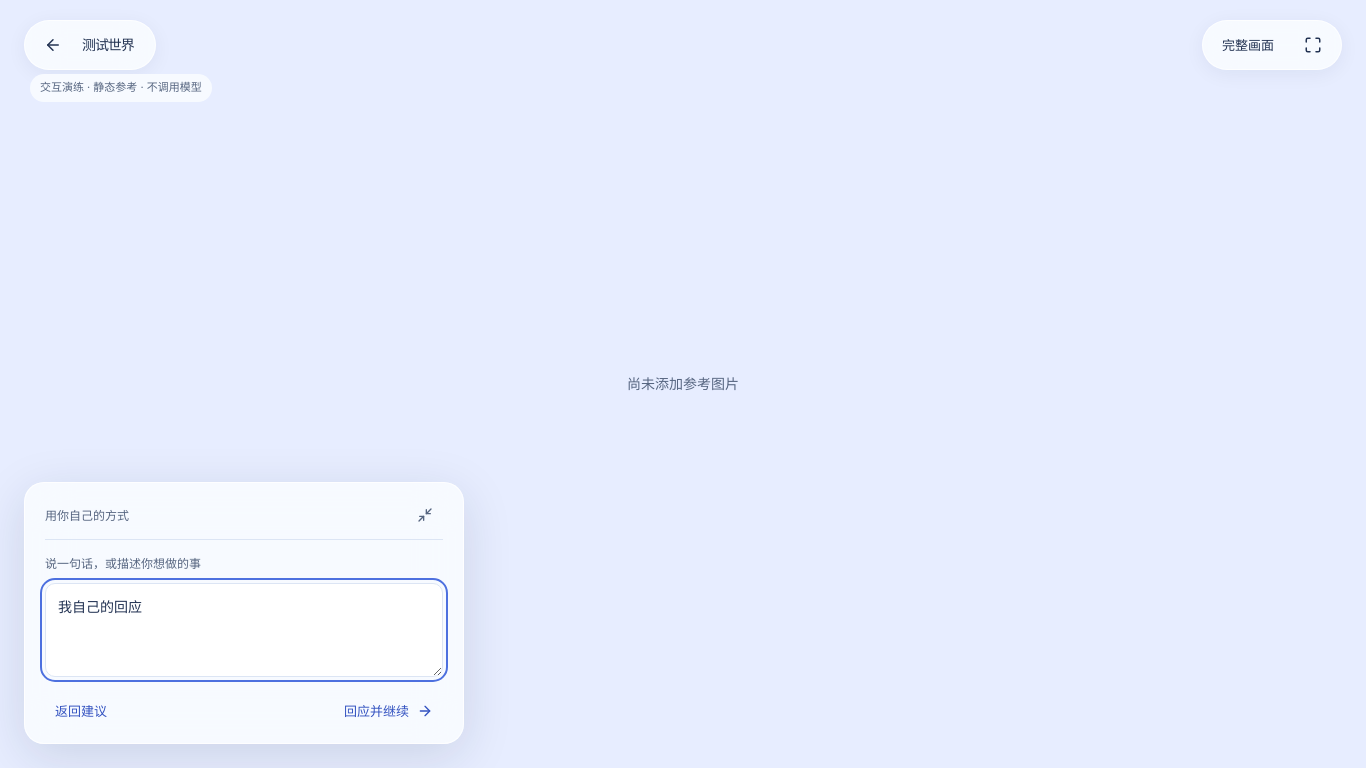
shadcn in-stage confirmation › retains a draft on cancel and replaces it only after confirmation without sending
The image size is (1366, 768).
Click the button "返回建议": point(81, 711) [45, 691, 117, 731]
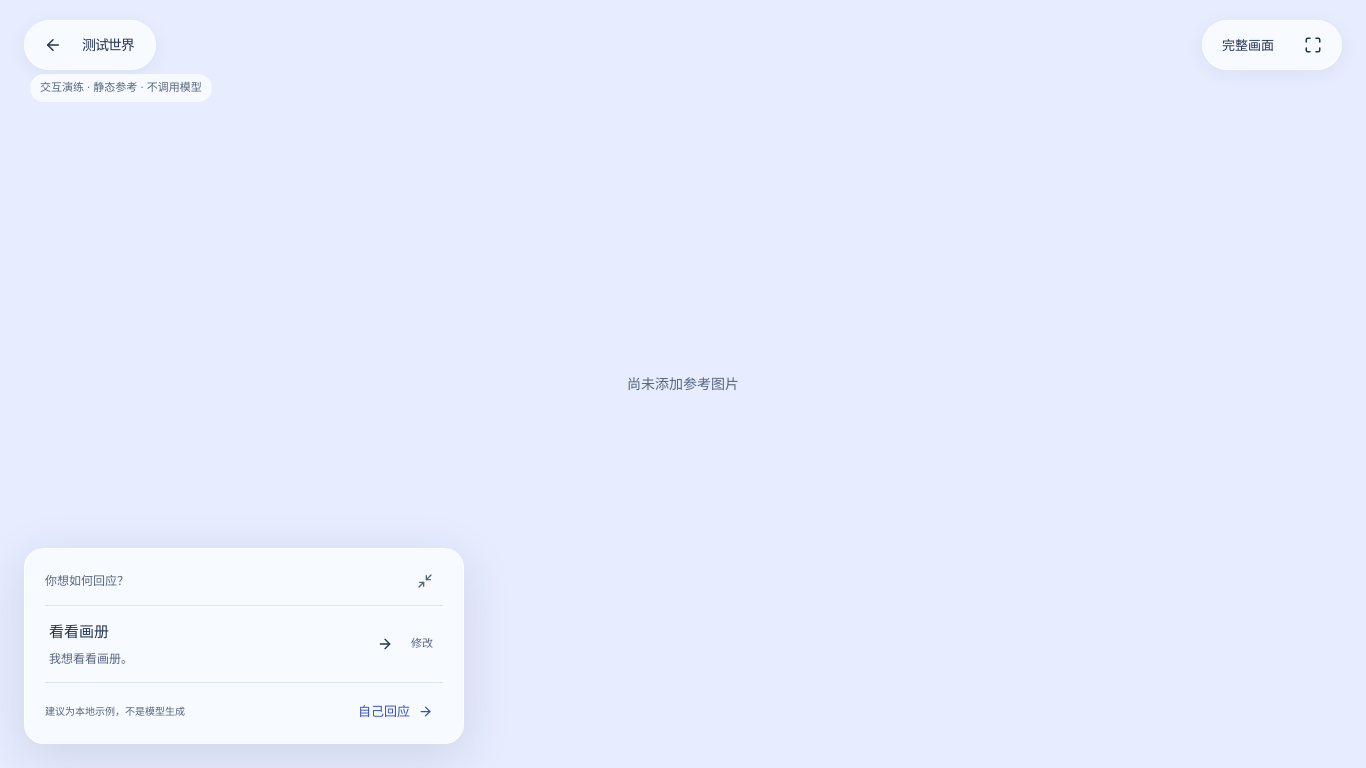
Click the button with aria-label "修改：看看画册": point(422, 644) [401, 624, 443, 664]
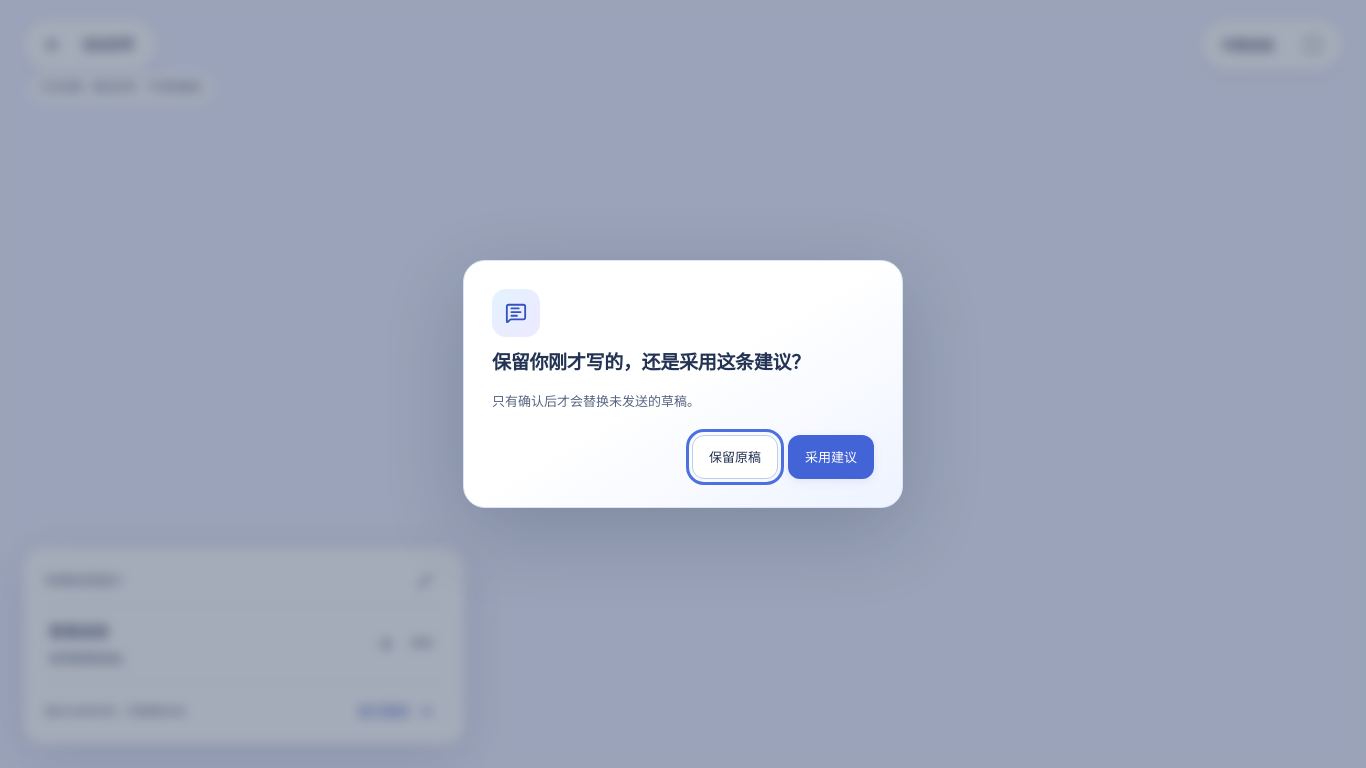
Click the button "保留原稿": point(735, 457) [692, 435, 778, 479]
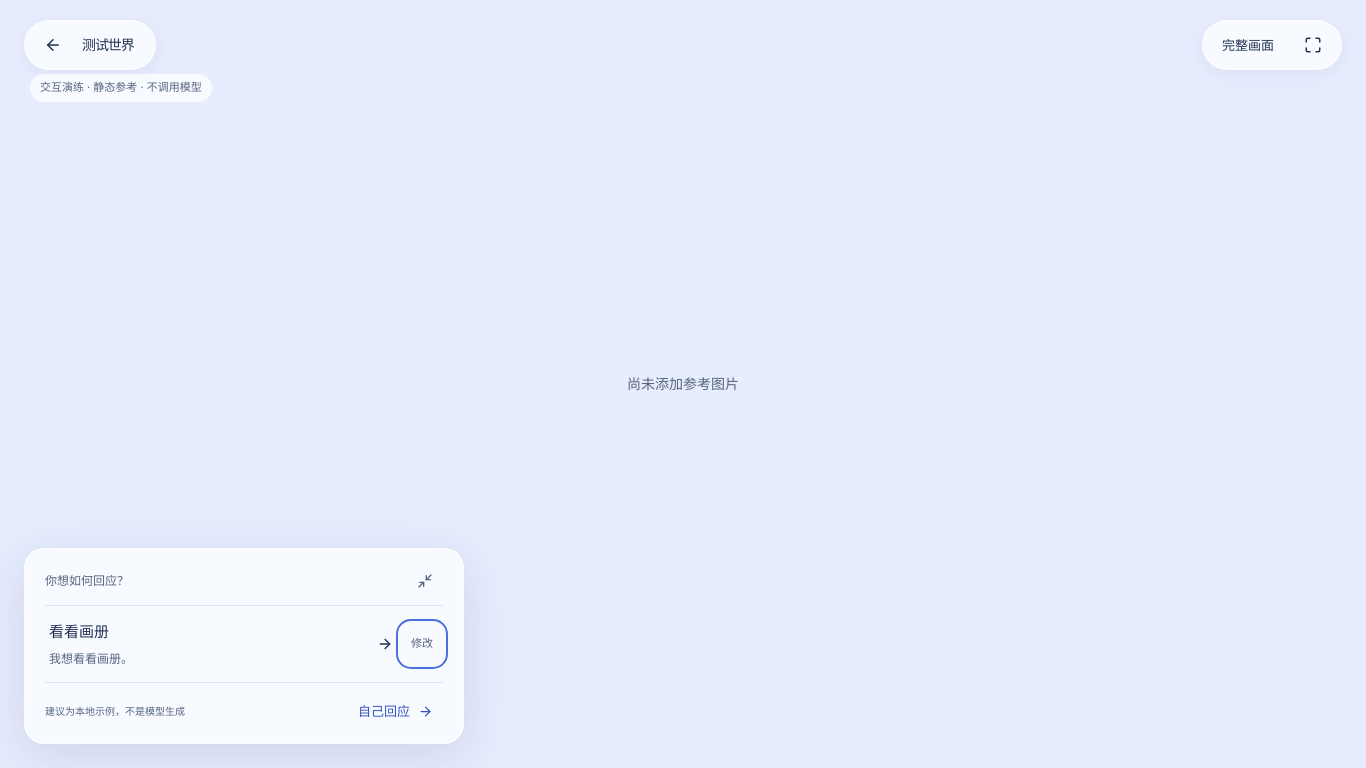
Click the button with aria-label "修改：看看画册": point(422, 644) [401, 624, 443, 664]
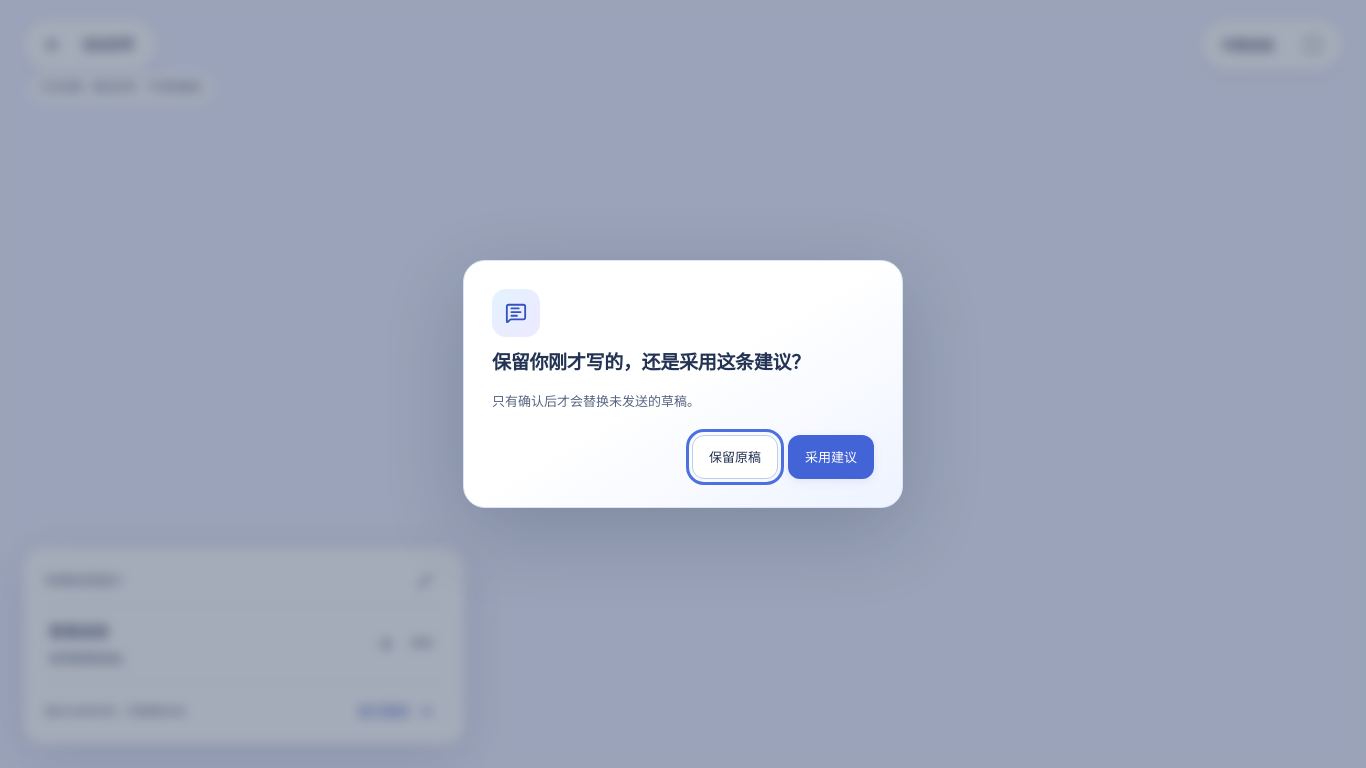
Click the button "采用建议": point(831, 457) [788, 435, 874, 479]
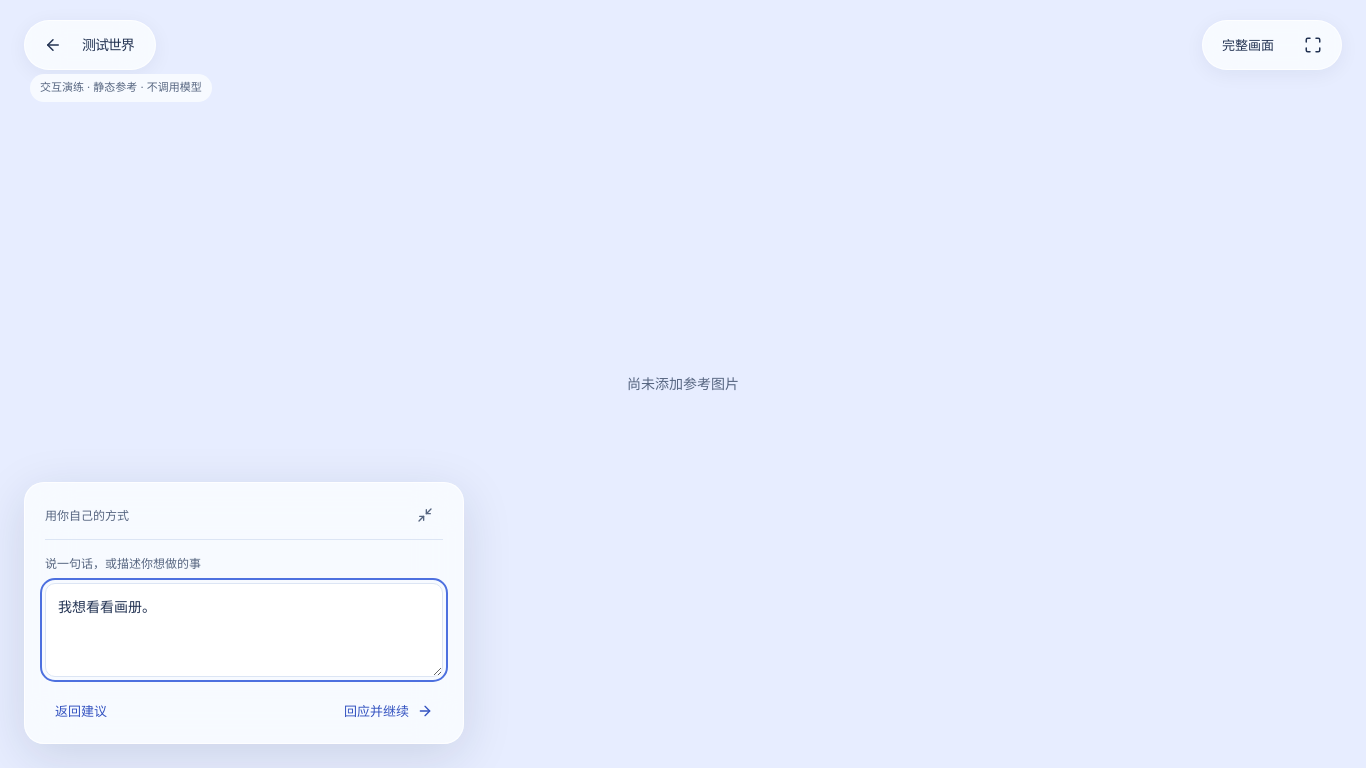
Now the text box holds "我想看看画册。", box [45, 583, 443, 677]
